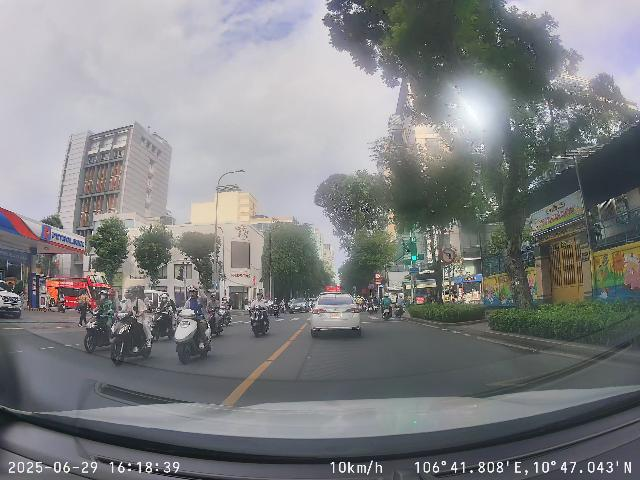123a-cam-re-trai: (441, 248, 456, 264)
